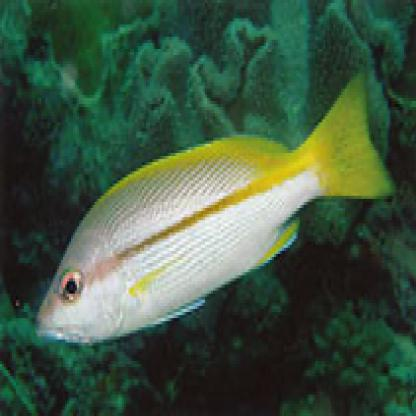snapper: (29, 47, 407, 350)
